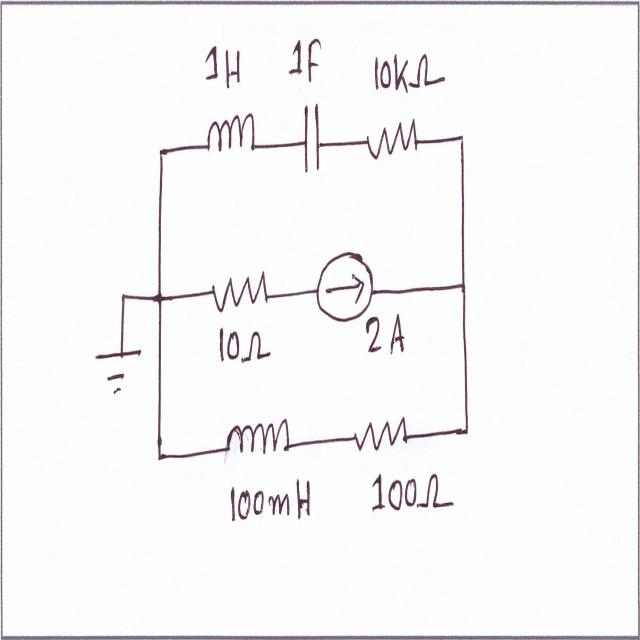capacitor: (300, 84, 325, 182)
current_source: (314, 240, 379, 323)
ground: (92, 338, 144, 402)
inductor: (224, 411, 292, 460), (204, 101, 261, 158)
resistor: (348, 402, 413, 463), (210, 258, 271, 321), (360, 111, 424, 164)
